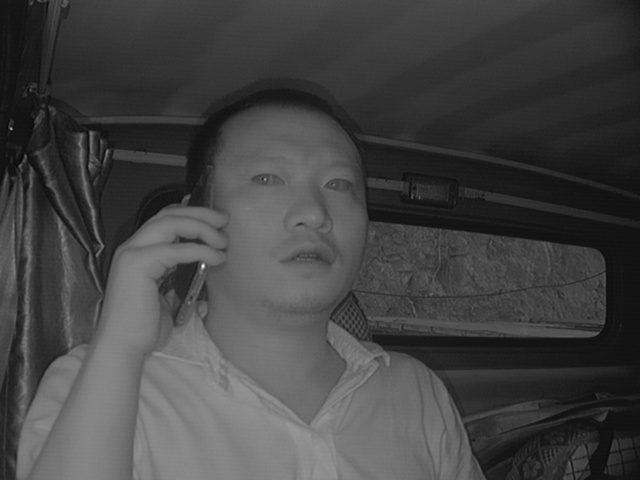hand: (101, 203, 221, 358)
